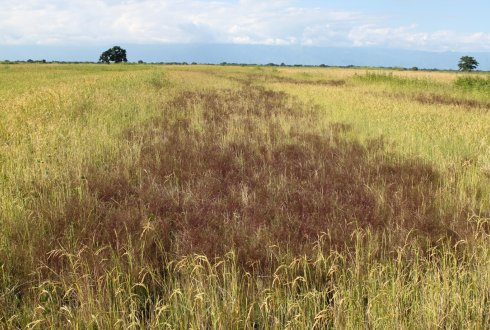damaged_tomato: (5, 51, 489, 330)
